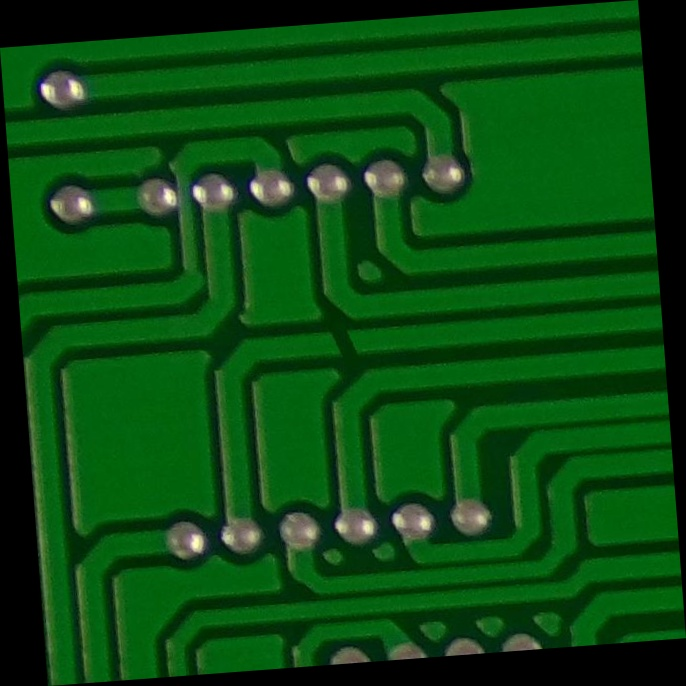open_circuit: (320, 321, 368, 366)
